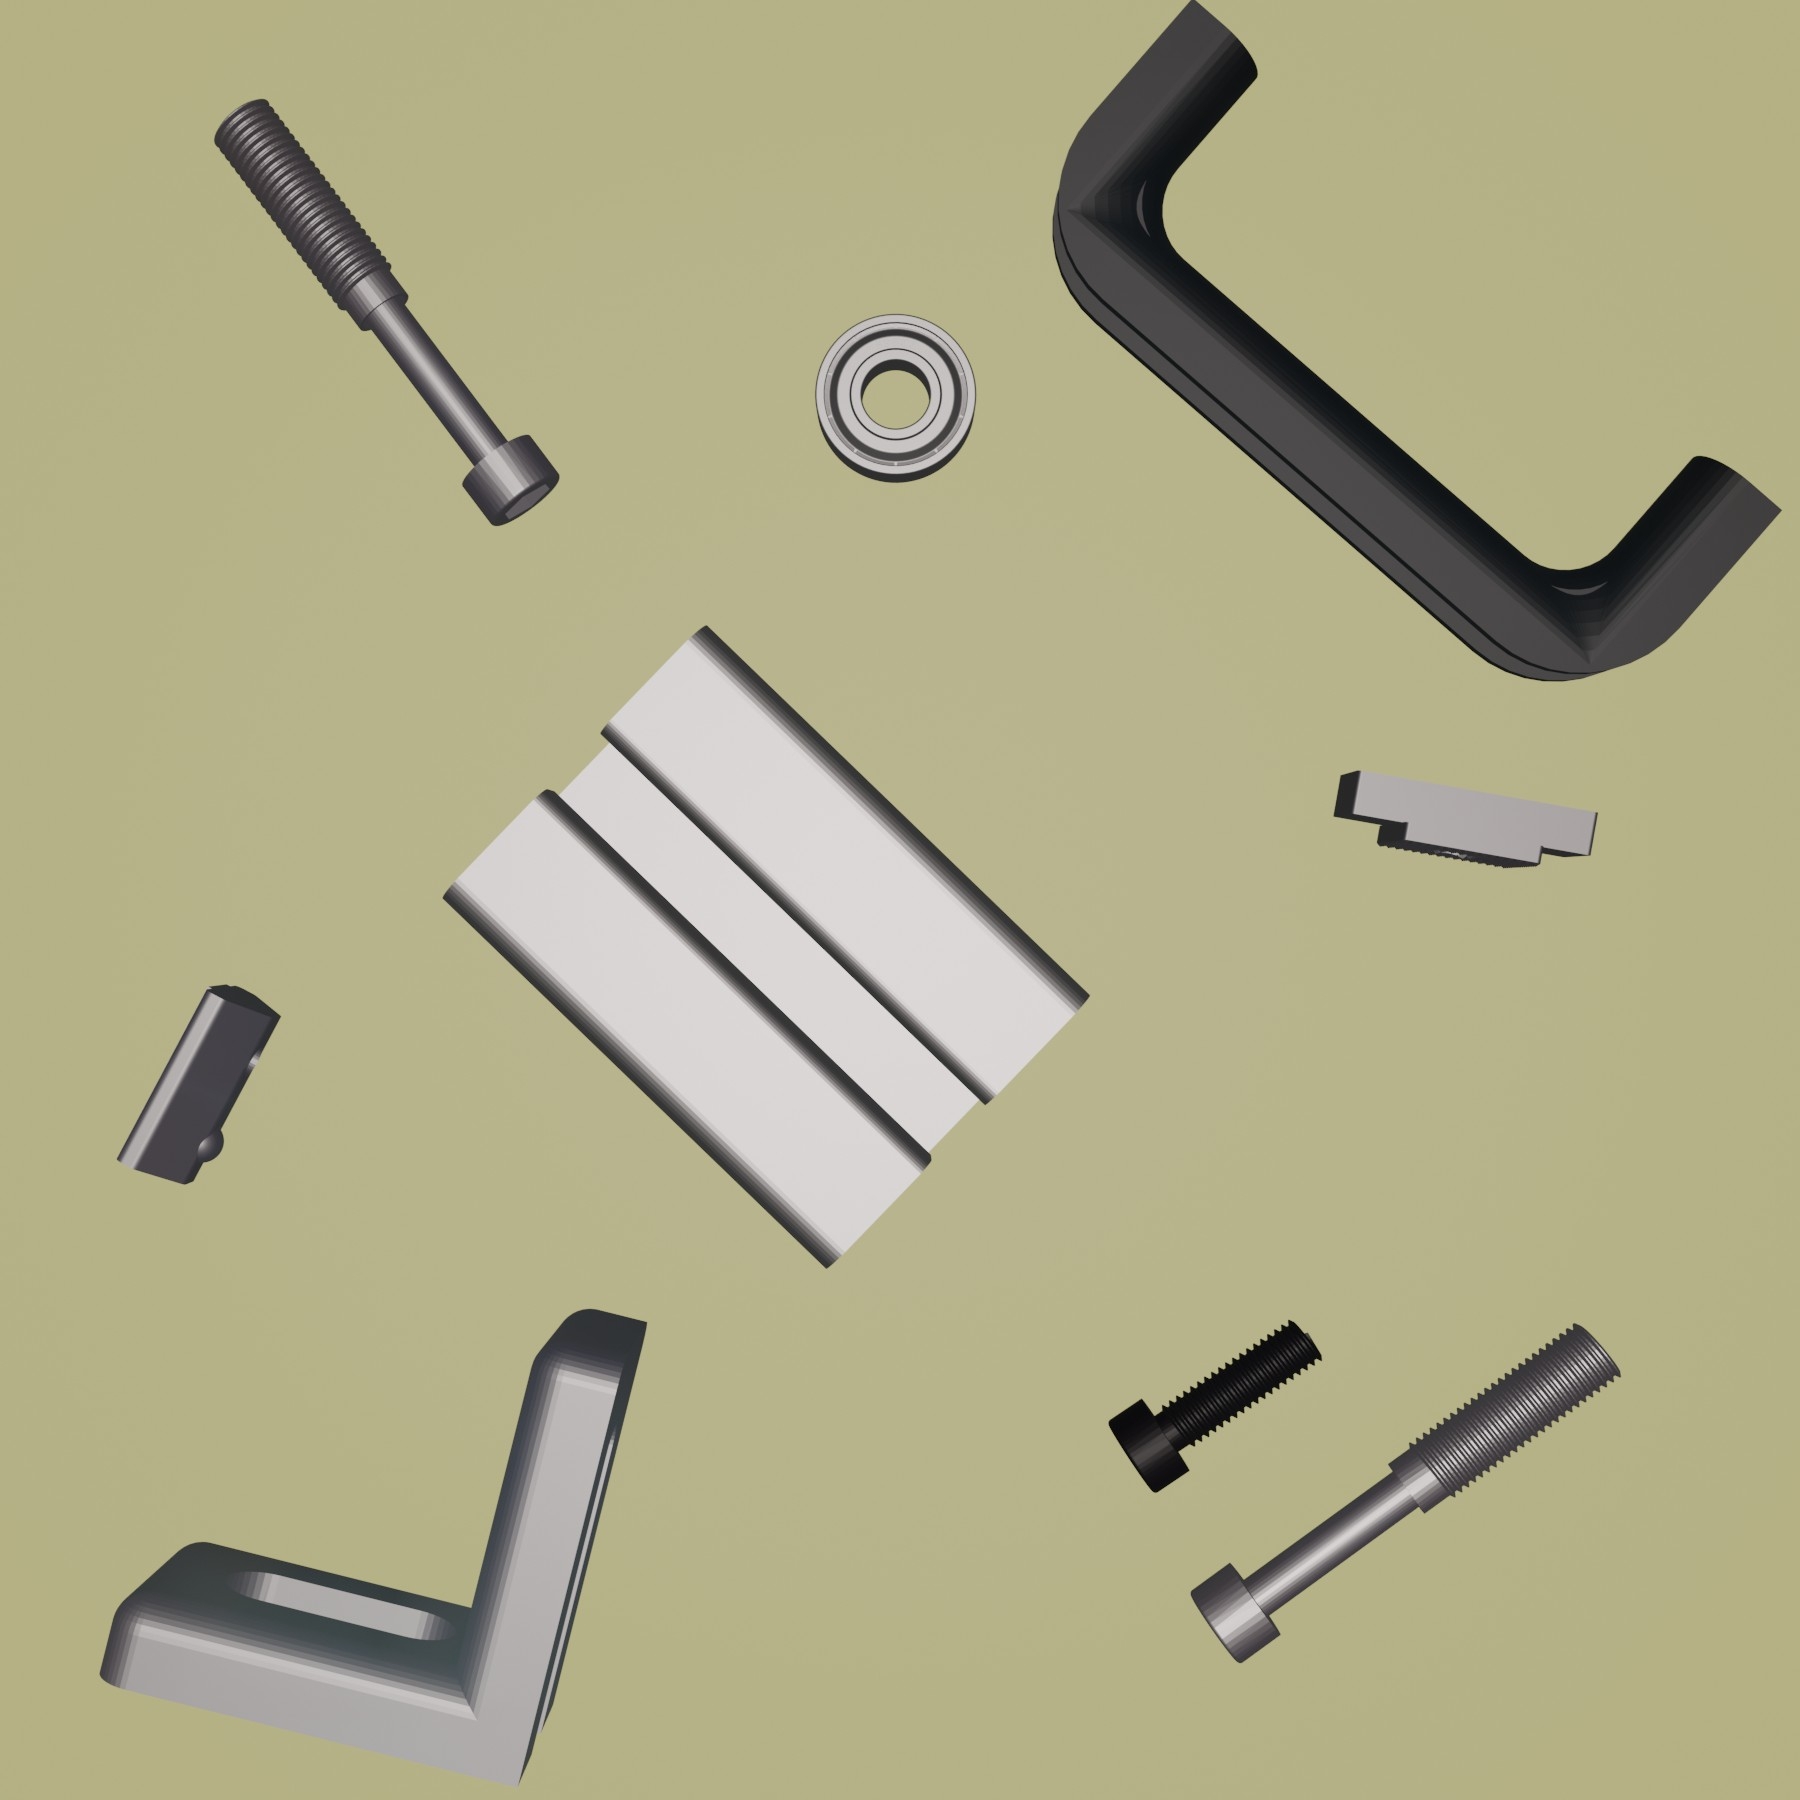Aluminium Extension: (437, 623, 1090, 1273)
Ball Bearing: (813, 312, 979, 485)
Multiwinkel: (96, 1309, 648, 1792)
Pull Handle: (1048, 2, 1782, 684)
Shoulder Socket Head Cap Screw: (1188, 1319, 1624, 1668), (213, 96, 562, 527)
Socket Head Cap Screw: (1108, 1314, 1324, 1497)
T Nut Square: (1329, 768, 1601, 872)
T Spring Nut: (112, 981, 279, 1188)
